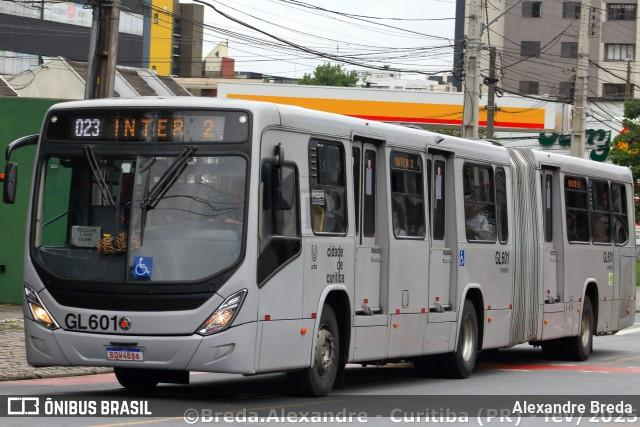INTER2: (109, 112, 220, 145)
